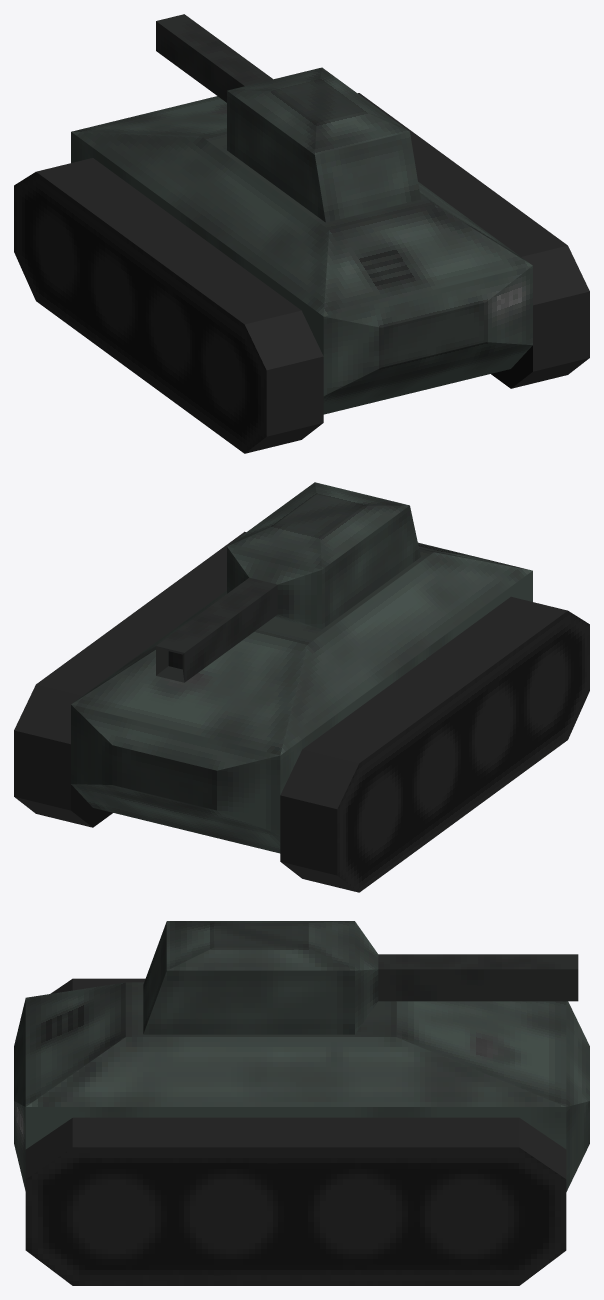
Rendered from tankv2.gltf.
3 renders of one model, top to bottom at view 1: azimuth 30°, elevation 25°; view 2: azimuth 150°, elevation 25°; view 3: azimuth 270°, elevation 25°, orthographic. The views are drawn at different scales.
Parts seen in each view (by area): view 1: mesh (×3), turret; view 2: mesh (×3), turret; view 3: mesh (×3), turret.
Boxes of the visible parts, x1,y1,x2,y2 form: mesh (×3): [14, 93, 589, 453]; turret: [156, 14, 420, 222]; mesh (×3): [14, 531, 589, 892]; turret: [156, 482, 420, 682]; mesh (×3): [14, 978, 589, 1285]; turret: [143, 921, 578, 1034].
Bounding box in the file's own units: 2.12 × 1.56 × 3.06.
Materials: 1 (1 with a texture image).
